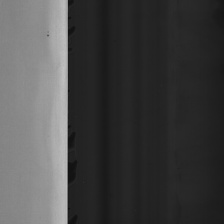oil_spot: (46, 27, 52, 43)
